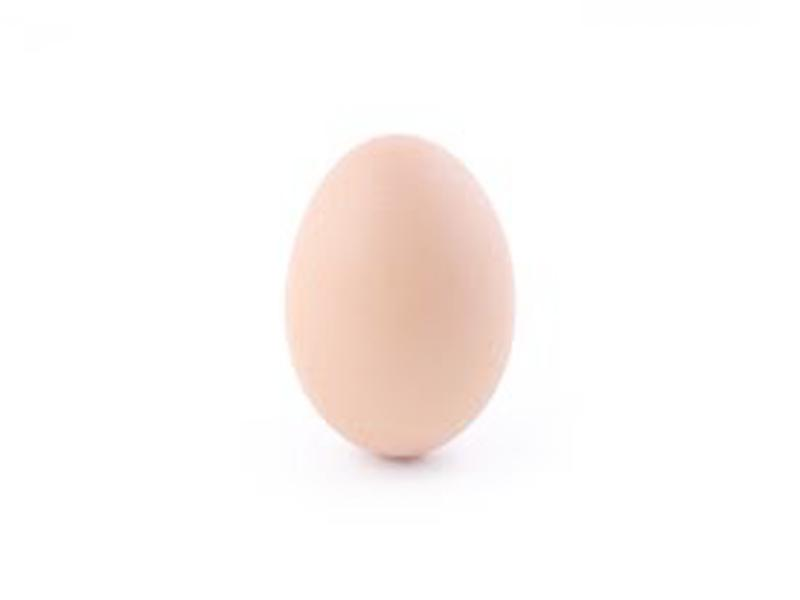Eggs: (288, 131, 518, 456)
